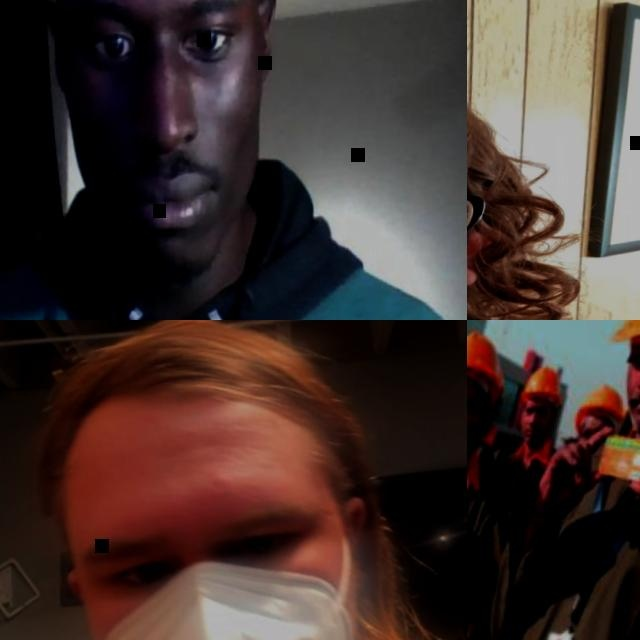Hardhat: (467, 327, 504, 390), (571, 386, 627, 424), (516, 366, 564, 402)
Mask: (93, 552, 371, 640)
NO-Hardhat: (35, 320, 342, 517)
NO-Mask: (66, 87, 268, 284), (522, 420, 551, 443), (627, 384, 640, 426), (467, 423, 479, 451)
NO-Safety Vest: (0, 233, 441, 320), (531, 434, 640, 640), (496, 448, 555, 532)
Person: (0, 0, 467, 320), (0, 320, 467, 640), (467, 320, 640, 640), (467, 28, 640, 320), (478, 365, 570, 526), (467, 323, 510, 640), (564, 379, 628, 441), (479, 371, 510, 450)
